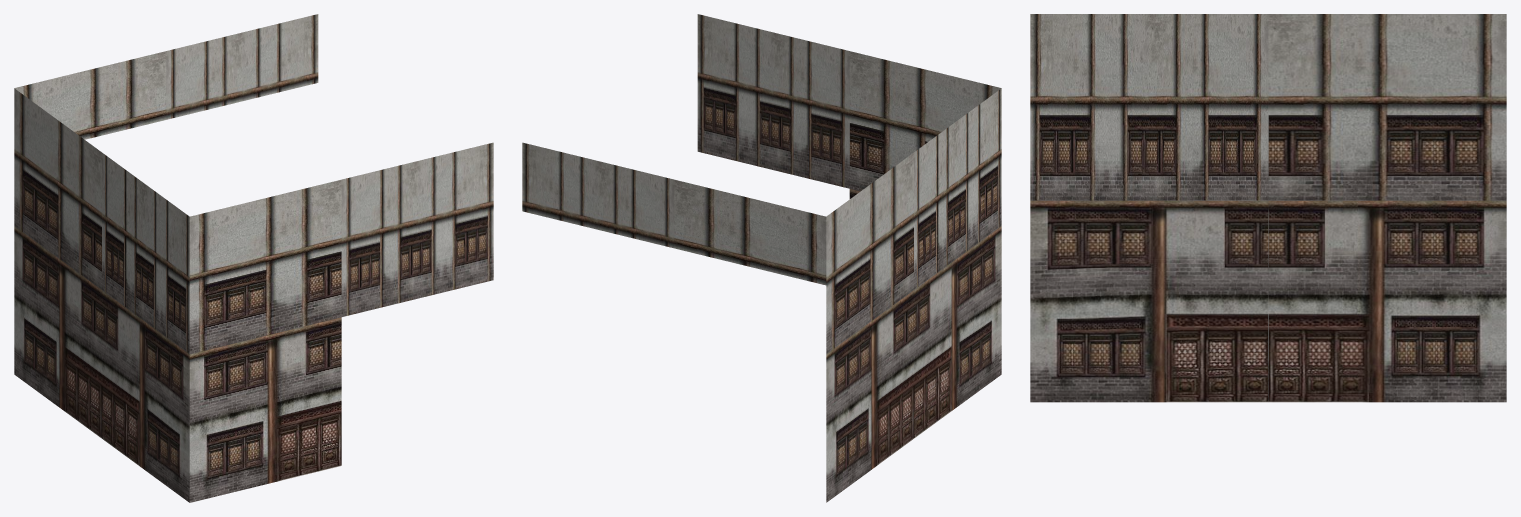
3 views of the same model, side by side, from view 1: azimuth 30°, elevation 25°; view 2: azimuth 150°, elevation 25°; view 3: azimuth 270°, elevation 25° (orthographic). The views are drawn at different scales.
Visible parts, largest first — view 1: Box167; view 2: Box167; view 3: Box167.
Part boxes in pixels (x1,y1,x2,y2): Box167: [14, 14, 493, 502]; Box167: [522, 14, 1001, 502]; Box167: [1030, 14, 1506, 402].
Size of the model in its own units: 300 by 270 by 300.
